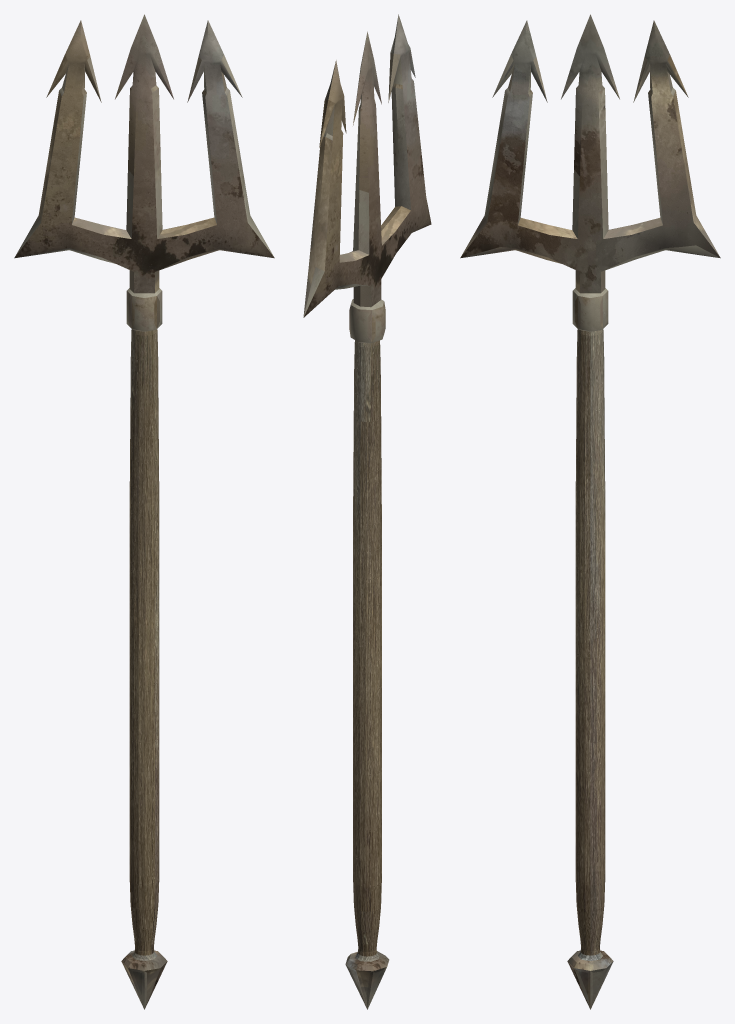
Rendered from Trident.fbx.
3 renders of one model, left to right at view 1: azimuth 90°, elevation 25°; view 2: azimuth 150°, elevation 25°; view 3: azimuth 270°, elevation 25°, orthographic.
Parts seen in each view (by area): view 1: Spearheads, Shaft, BaseCap; view 2: Spearheads, Shaft, BaseCap; view 3: Spearheads, Shaft, BaseCap.
Part boxes in pixels (x1=…): Spearheads: x1=14, y1=14, x2=274, y2=331; Shaft: x1=129, y1=329, x2=159, y2=960; BaseCap: x1=121, y1=950, x2=167, y2=1009; Spearheads: x1=303, y1=14, x2=431, y2=343; Shaft: x1=353, y1=340, x2=381, y2=961; BaseCap: x1=345, y1=951, x2=389, y2=1009; Spearheads: x1=460, y1=14, x2=720, y2=331; Shaft: x1=575, y1=329, x2=605, y2=960; BaseCap: x1=567, y1=950, x2=613, y2=1009.
Bounding box in the file's own units: 9.6 × 228 × 54.01.
2 materials, 2 textured.
